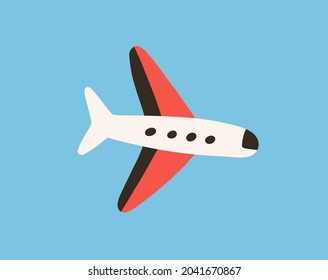airplane: (75, 45, 261, 214)
